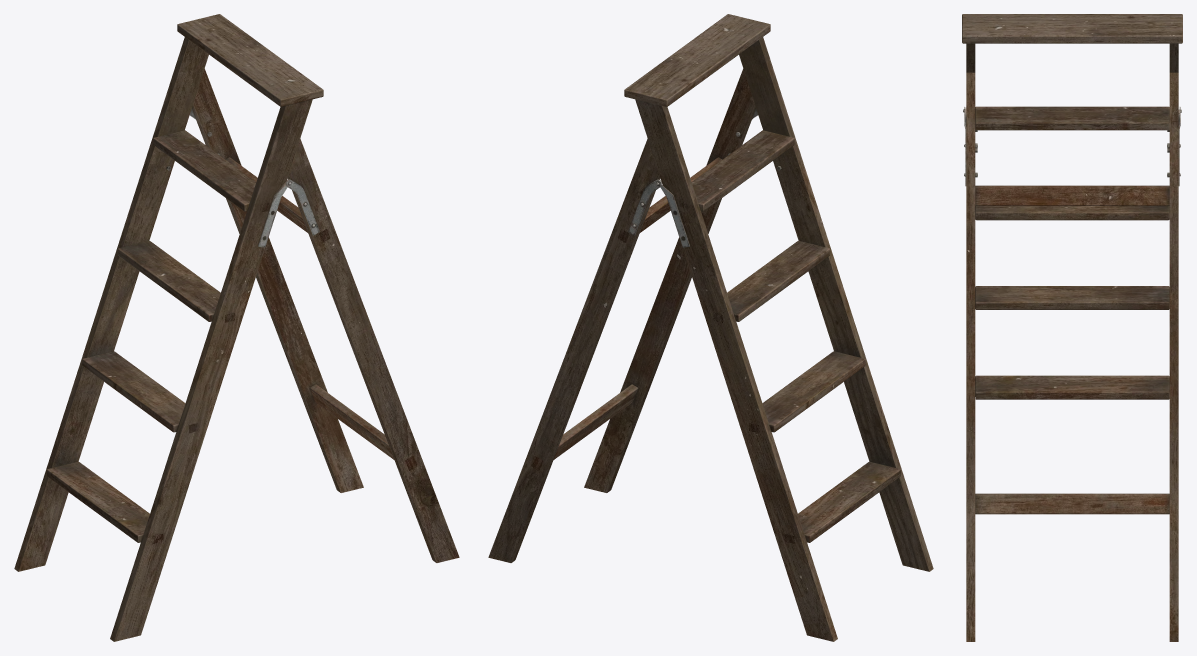
The model's file is wooden_ladder.glb.
The picture shows the model from 3 angles, left to right: view 1: azimuth 30°, elevation 25°; view 2: azimuth 150°, elevation 25°; view 3: azimuth 270°, elevation 25°; orthographic projection. The views are drawn at different scales.
Visible parts, largest first — view 1: wooden_ladder_steps, wooden_ladder_supports; view 2: wooden_ladder_steps, wooden_ladder_supports; view 3: wooden_ladder_steps, wooden_ladder_supports.
Boxes of the visible parts, x1,y1,x2,y2 form: wooden_ladder_steps: (14,14,323,641); wooden_ladder_supports: (190,68,459,562); wooden_ladder_steps: (624,14,933,641); wooden_ladder_supports: (488,68,757,562); wooden_ladder_steps: (962,14,1182,399); wooden_ladder_supports: (963,72,1181,641).
Size of the model in its own units: 0.9592 by 1.33 by 0.5.
1 material, 1 textured.
